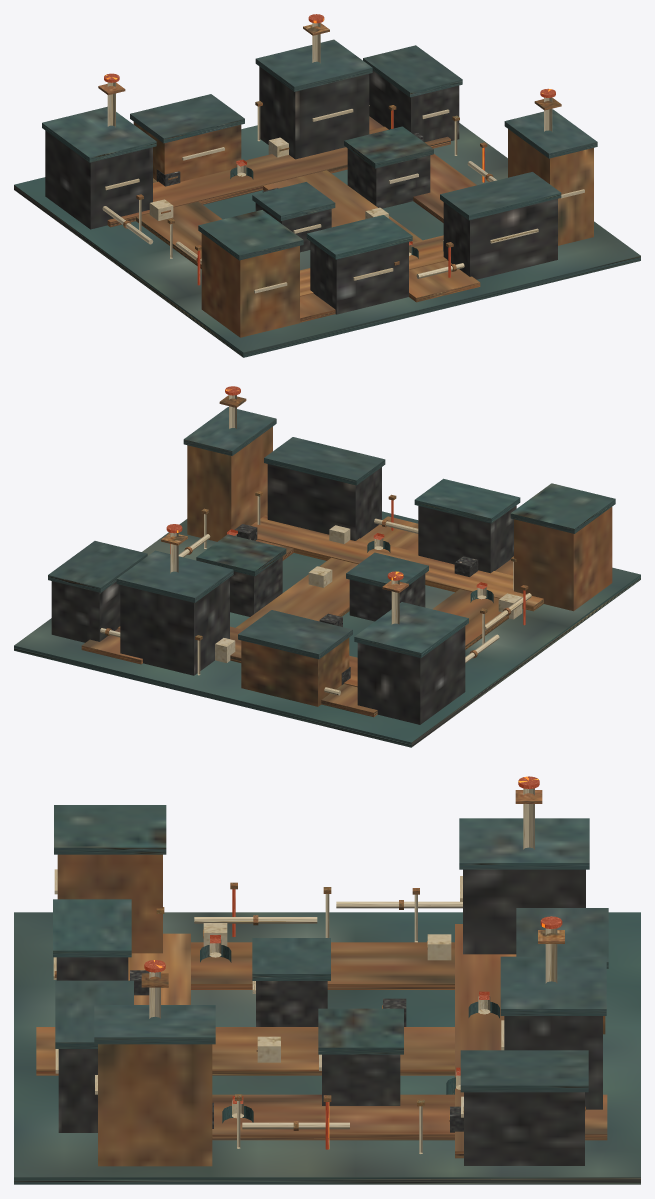
The model's file is repair-district.gltf.
The picture shows the model from 3 angles, top to bottom: view 1: azimuth 30°, elevation 25°; view 2: azimuth 150°, elevation 25°; view 3: azimuth 270°, elevation 25°; orthographic projection. The views are drawn at different scales.
Parts seen in each view (by area): view 1: Repair District; view 2: Repair District; view 3: Repair District.
Boxes of the visible parts, left/top/right/bottom form: Repair District: left=14, top=14, right=640, bottom=357; Repair District: left=14, top=386, right=640, bottom=747; Repair District: left=14, top=776, right=640, bottom=1184.
Bounding box in the file's own units: 28 × 9.5 × 28.
Materials: 5 (5 with a texture image).
